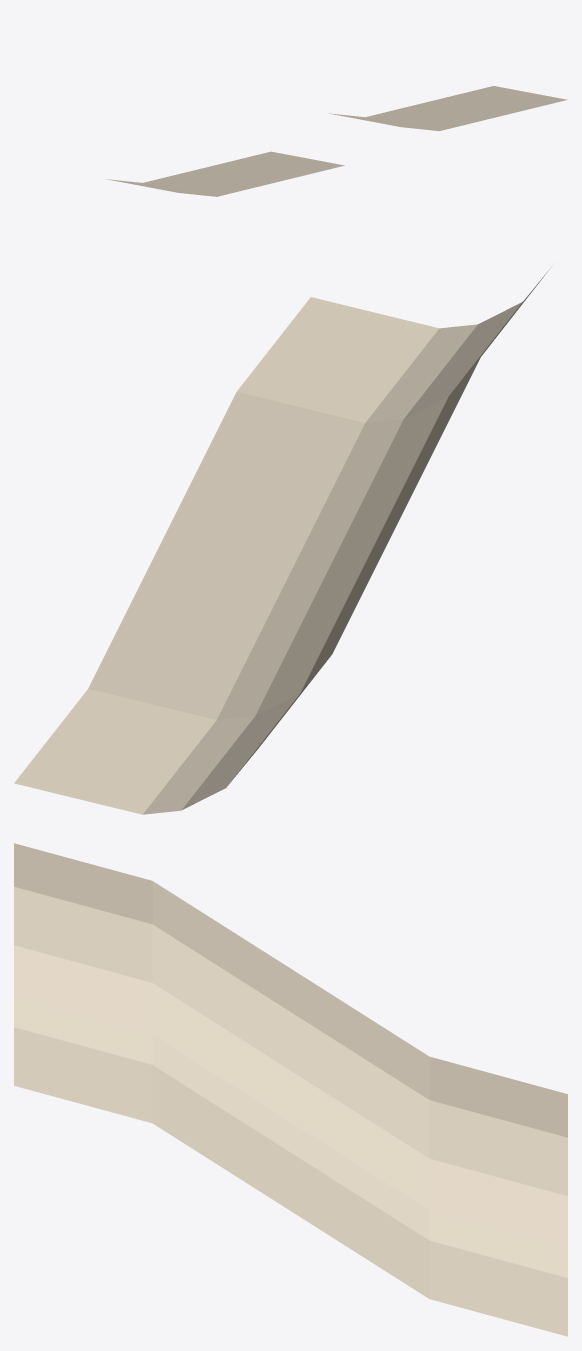
File: Escarpment_Terrain_Hill_Base.glb
The picture shows the model from 3 angles, top to bottom: view 1: azimuth 30°, elevation 25°; view 2: azimuth 150°, elevation 25°; view 3: azimuth 270°, elevation 25°; orthographic projection. The views are drawn at different scales.
Visible parts, largest first — view 1: Escarpment_Terrain_Hill_Base; view 2: Escarpment_Terrain_Hill_Base; view 3: Escarpment_Terrain_Hill_Base.
Boxes of the visible parts, left/top/right/bottom form: Escarpment_Terrain_Hill_Base: left=105, top=86, right=567, bottom=196; Escarpment_Terrain_Hill_Base: left=14, top=269, right=549, bottom=814; Escarpment_Terrain_Hill_Base: left=14, top=843, right=567, bottom=1336.
Bounding box in the file's own units: 1 × 1.5 × 2.
